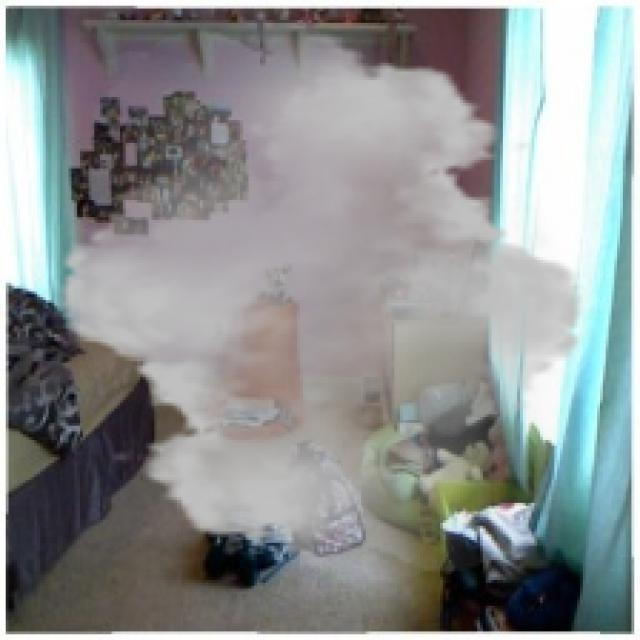Smoke: (37, 20, 606, 583)
